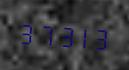one: (72, 20, 89, 51)
seven: (36, 18, 53, 49)
three: (18, 16, 35, 47), (54, 19, 71, 50), (90, 21, 107, 52)
